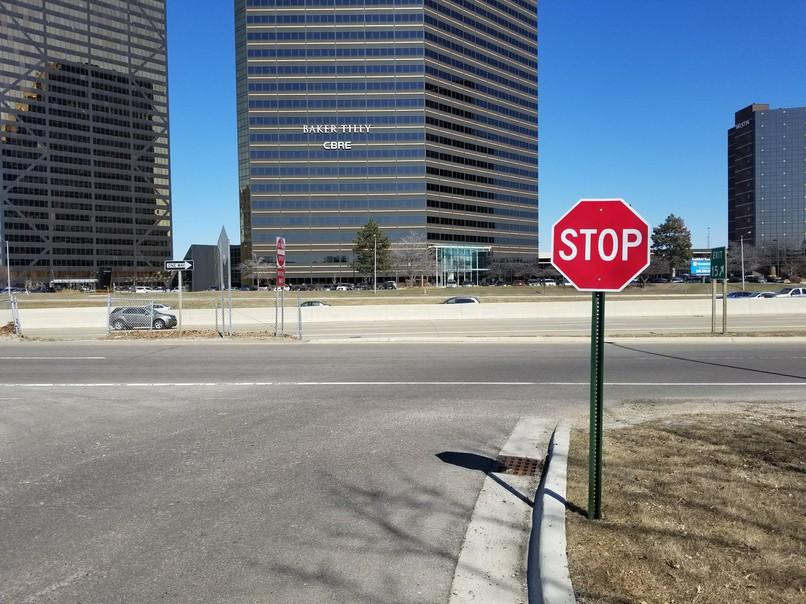Pole: (591, 297, 602, 518), (179, 272, 182, 336), (275, 288, 278, 338), (282, 288, 285, 336)
Sign: (551, 200, 649, 290)
